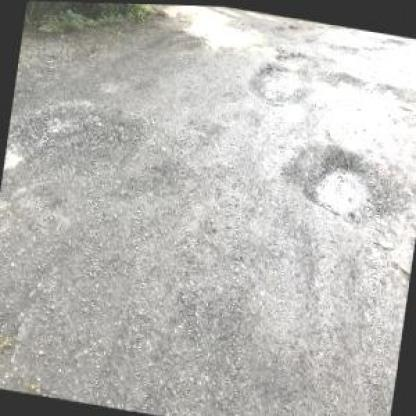pothole: (282, 134, 402, 229), (244, 54, 319, 107), (368, 75, 414, 130), (322, 65, 368, 93)
